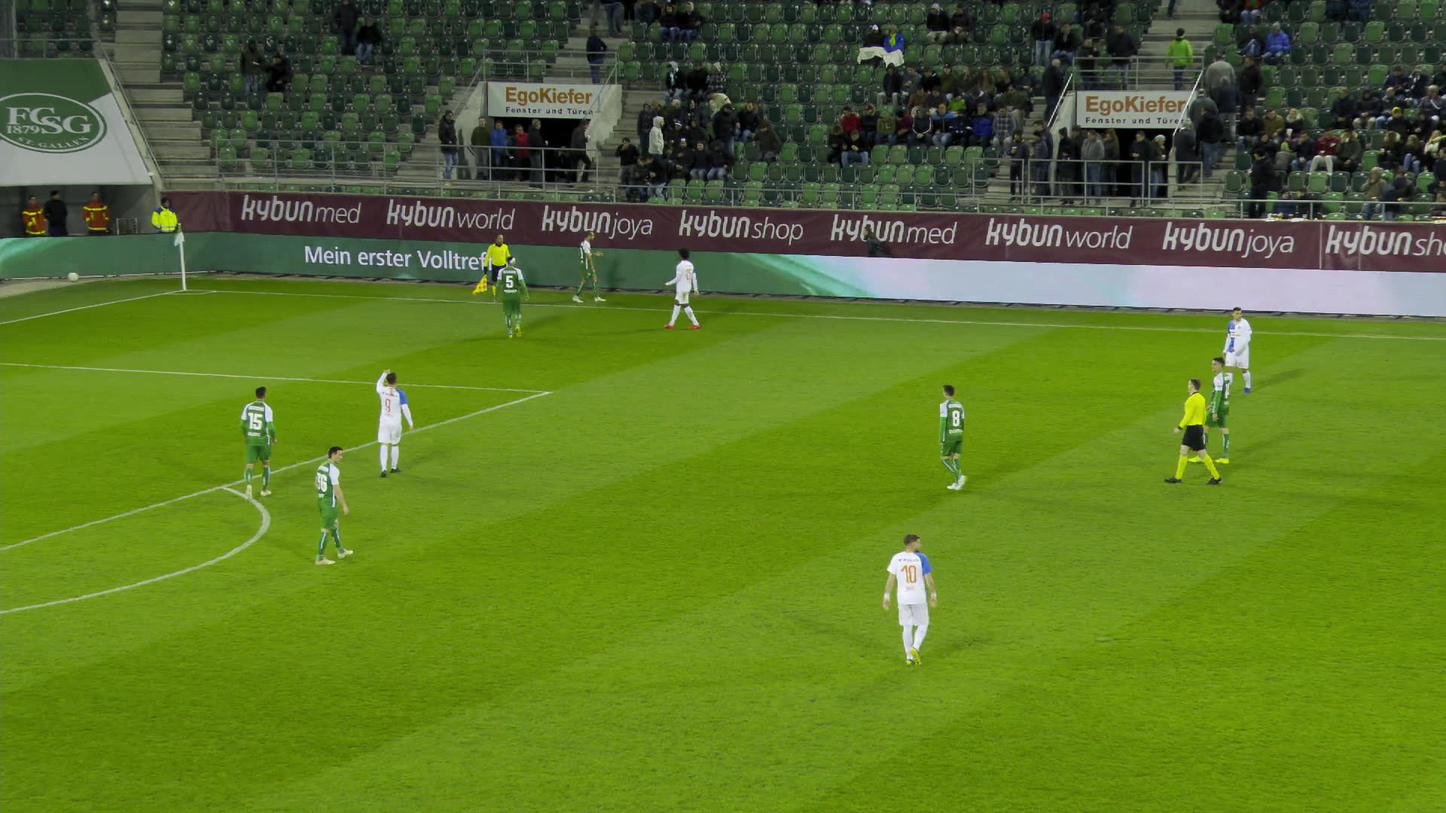ball: (69, 270, 79, 280)
player: (883, 536, 929, 662), (238, 387, 282, 498), (312, 449, 350, 562), (933, 384, 973, 489), (1200, 355, 1240, 460), (374, 369, 413, 476), (1221, 307, 1258, 395), (662, 251, 700, 327), (493, 257, 528, 335), (574, 231, 605, 301)
referee: (1163, 376, 1214, 483), (480, 234, 516, 296)
